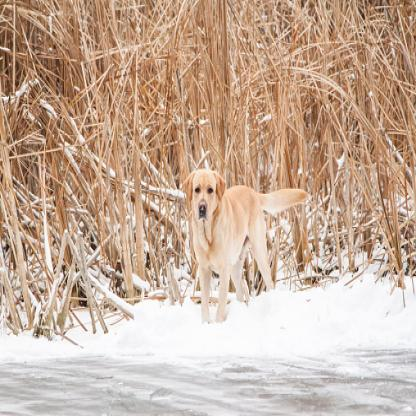dog: (188, 170, 309, 326)
